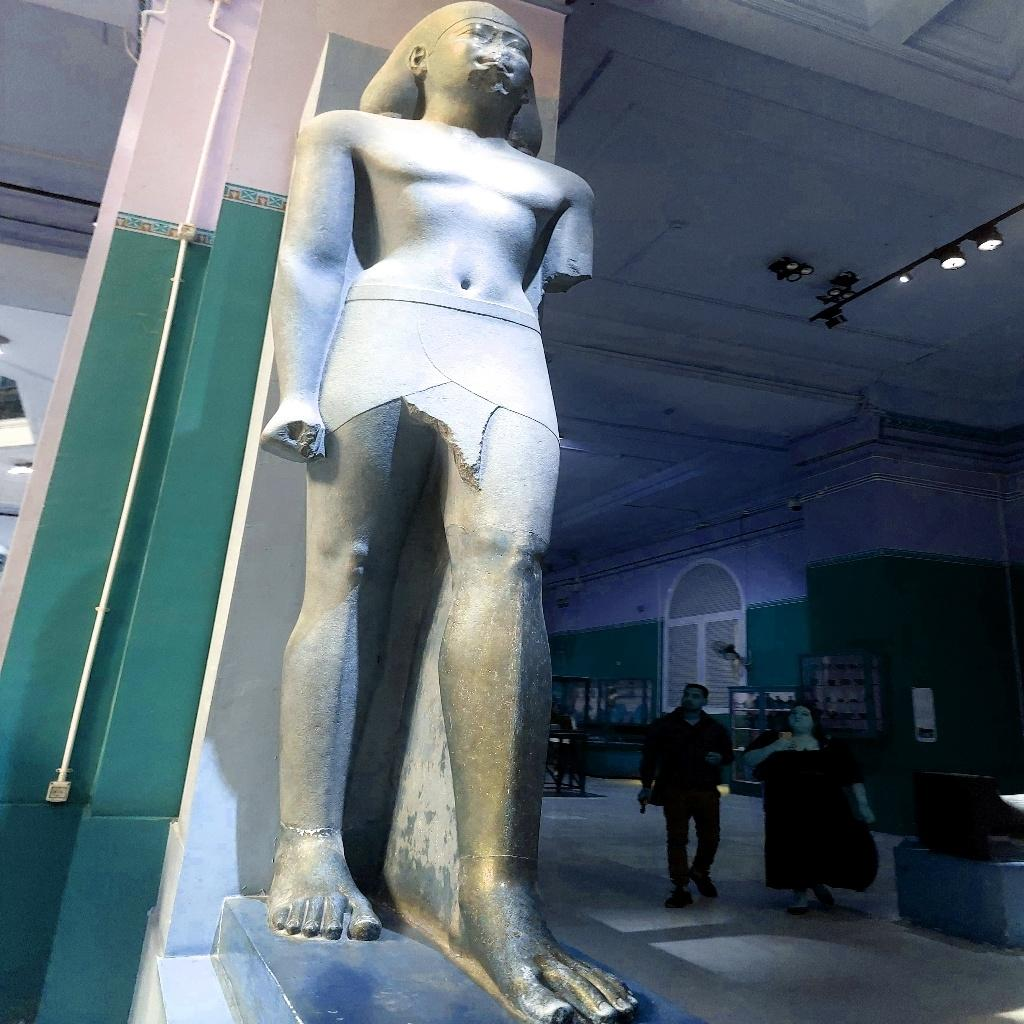Colossal Statue of Hormoheb: (250, 2, 644, 1020)
